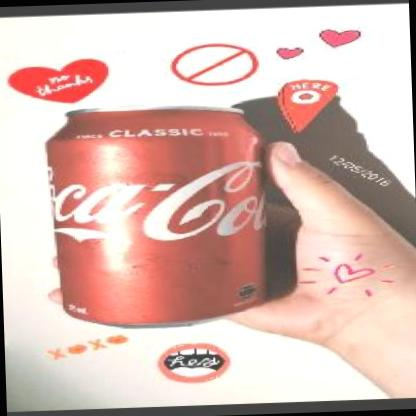alumunium_can: (36, 98, 282, 332)
